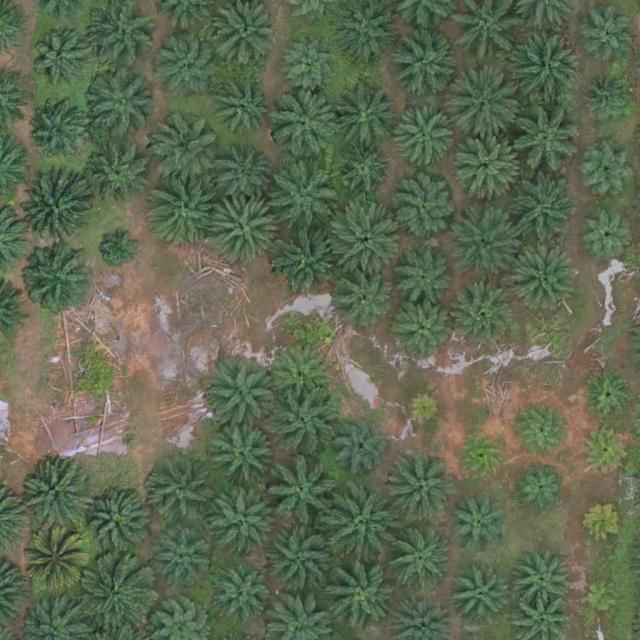Healthy: (452, 72, 523, 143), (84, 69, 155, 140), (265, 525, 336, 595), (511, 35, 582, 105), (507, 107, 577, 178), (506, 180, 576, 251), (509, 245, 579, 316), (447, 280, 517, 351), (452, 210, 522, 281), (452, 131, 522, 202), (332, 201, 402, 272), (268, 90, 338, 161), (266, 154, 337, 224), (274, 227, 345, 297), (149, 106, 219, 177), (144, 177, 214, 248), (326, 492, 397, 562), (267, 460, 338, 530), (210, 480, 280, 551), (144, 457, 214, 528), (81, 488, 152, 558), (21, 461, 91, 532), (21, 175, 92, 245), (22, 247, 92, 318), (324, 560, 394, 630), (82, 558, 152, 628), (385, 29, 455, 99), (332, 84, 402, 154), (208, 194, 278, 264), (149, 32, 219, 102), (387, 452, 457, 522), (271, 387, 341, 457), (208, 362, 278, 432), (445, 493, 508, 556), (329, 270, 392, 333), (212, 143, 275, 206), (270, 343, 333, 406), (25, 101, 88, 164), (512, 548, 574, 611), (450, 566, 512, 629), (391, 528, 453, 591), (394, 108, 456, 171), (394, 178, 456, 241), (395, 246, 457, 309), (395, 299, 457, 362), (215, 73, 277, 136), (213, 427, 275, 490), (90, 144, 152, 207), (217, 569, 272, 624), (517, 403, 572, 458), (517, 460, 572, 515), (578, 423, 633, 478), (583, 367, 638, 422), (580, 208, 635, 263), (583, 140, 638, 195), (334, 144, 389, 199), (283, 38, 338, 93), (338, 418, 393, 473), (33, 31, 88, 86), (156, 534, 210, 589), (455, 429, 509, 484), (581, 73, 635, 128), (581, 7, 635, 62)
Small: (96, 224, 143, 271)
Yellow: (24, 533, 86, 595), (581, 498, 628, 546), (584, 579, 623, 619), (403, 392, 442, 431)
